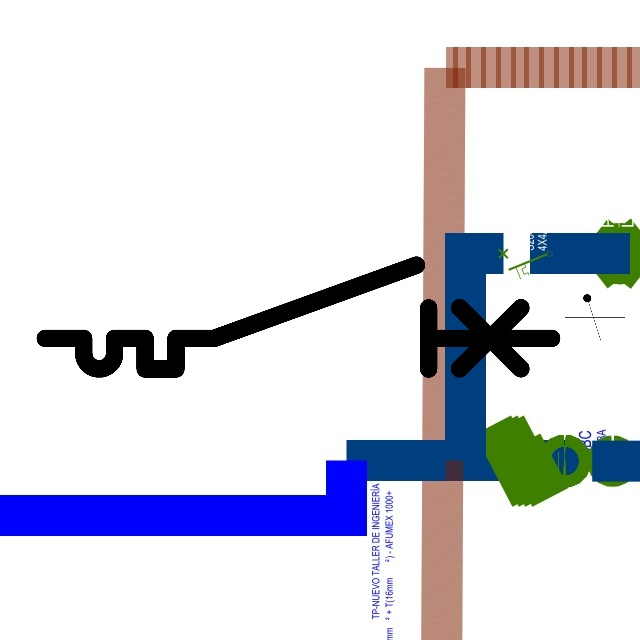interruptor_termomagnetico: (32, 252, 564, 382)
